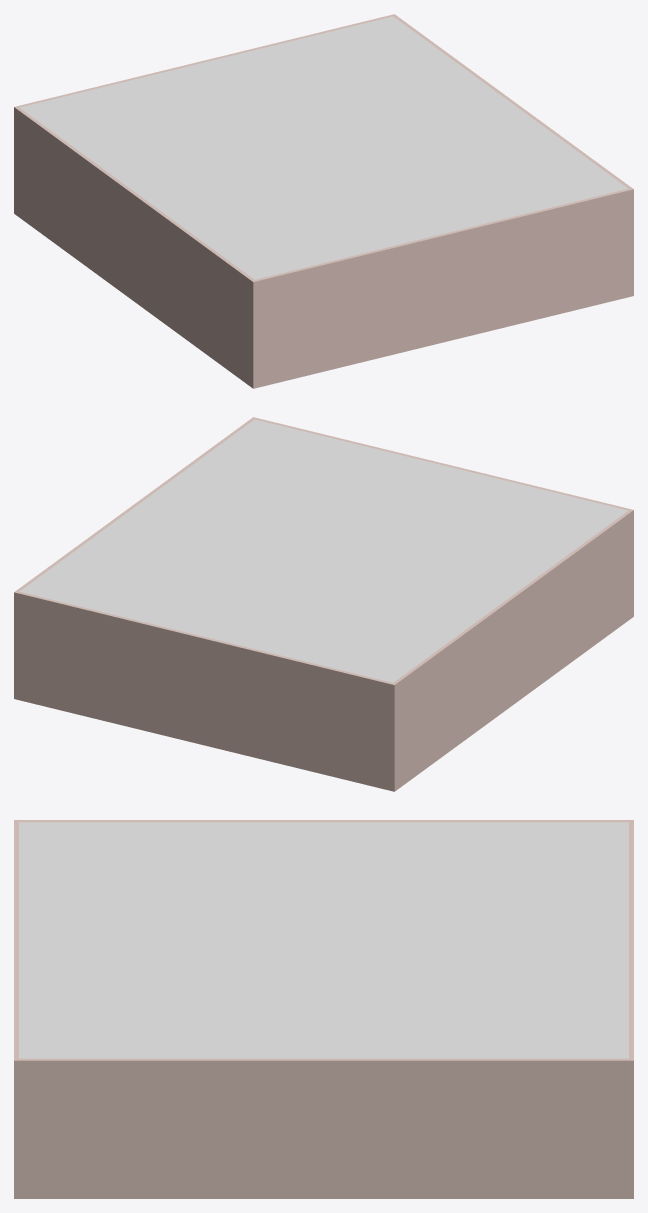
Rendered from Police station.fbx.
3 views of the same model, one above another, from view 1: azimuth 30°, elevation 25°; view 2: azimuth 150°, elevation 25°; view 3: azimuth 270°, elevation 25° (orthographic). The views are drawn at different scales.
Parts seen in each view (by area): view 1: Ceiling, Room; view 2: Ceiling, Room; view 3: Ceiling, Room.
Boxes of the visible parts, <box> form: Ceiling: <box>19,16,628,279</box>; Room: <box>14,14,633,388</box>; Ceiling: <box>19,419,628,682</box>; Room: <box>14,417,633,791</box>; Ceiling: <box>19,822,628,1058</box>; Room: <box>14,820,633,1198</box>.
Size of the model in its own units: 1120 by 309 by 1220.
